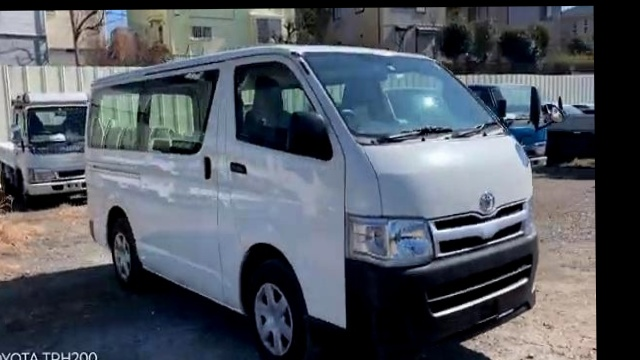van: (80, 41, 541, 360)
